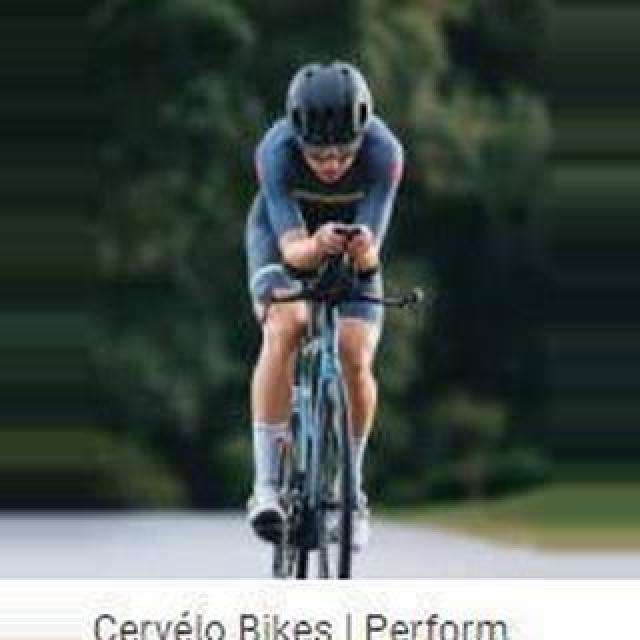MC-Bike: (242, 52, 410, 564)
Person: (254, 273, 424, 579)
